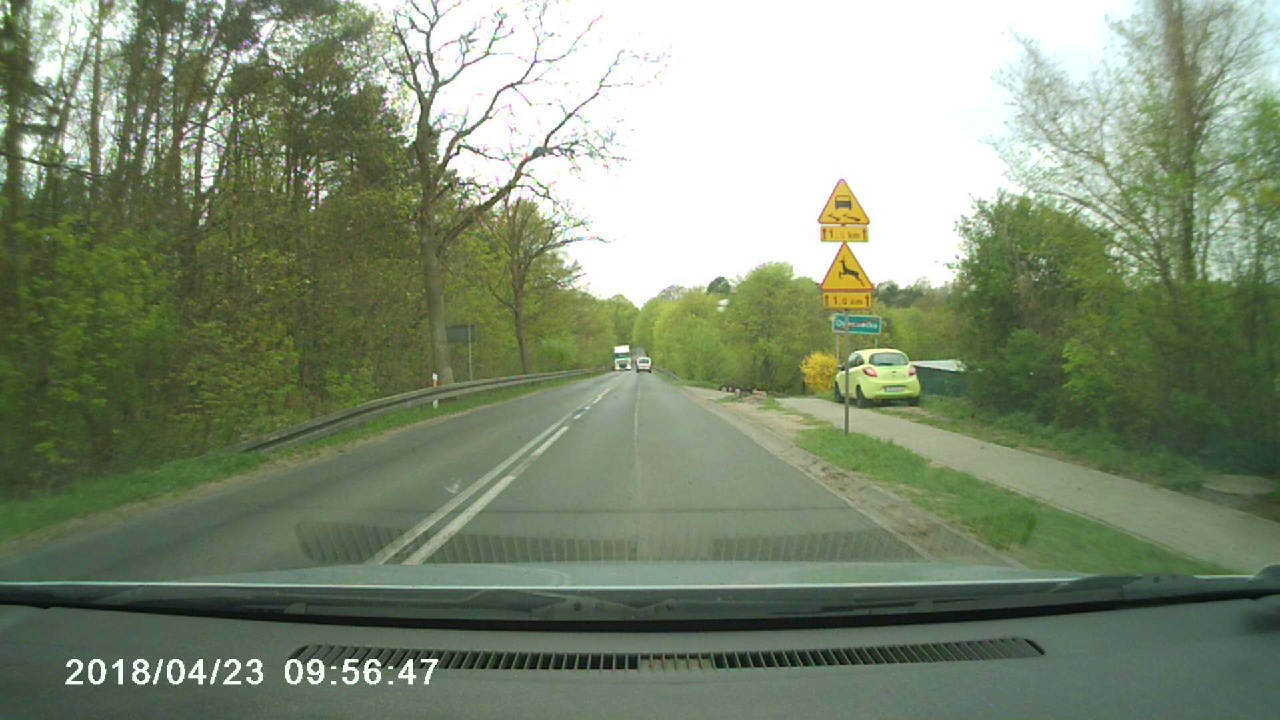A15: (817, 179, 872, 226)
A18b: (821, 242, 874, 291)
